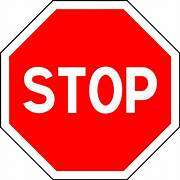stop: (2, 1, 180, 180)
